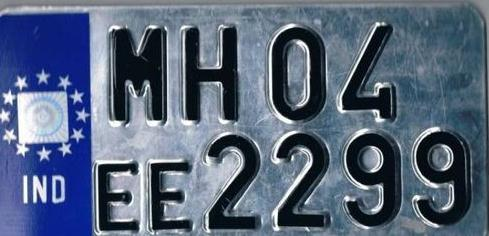0: (260, 21, 326, 122)
2: (267, 129, 330, 228), (199, 130, 261, 229)
4: (336, 20, 397, 121)
9: (410, 125, 471, 227), (340, 126, 399, 230)
E: (142, 156, 196, 233), (90, 158, 142, 233)
H: (177, 22, 240, 122)
M: (108, 24, 168, 125)
